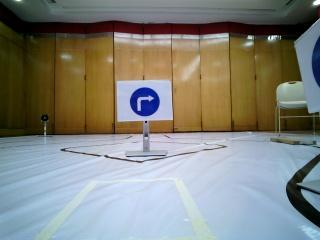right: (116, 84, 176, 124)
